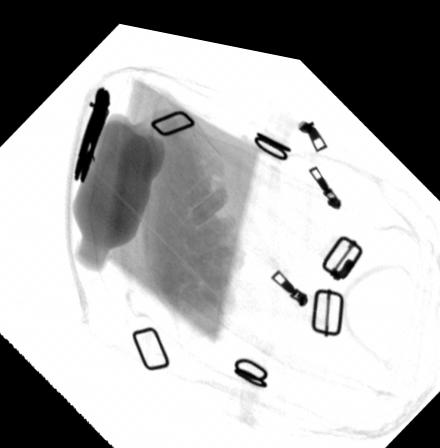Knife: (73, 82, 111, 181)
